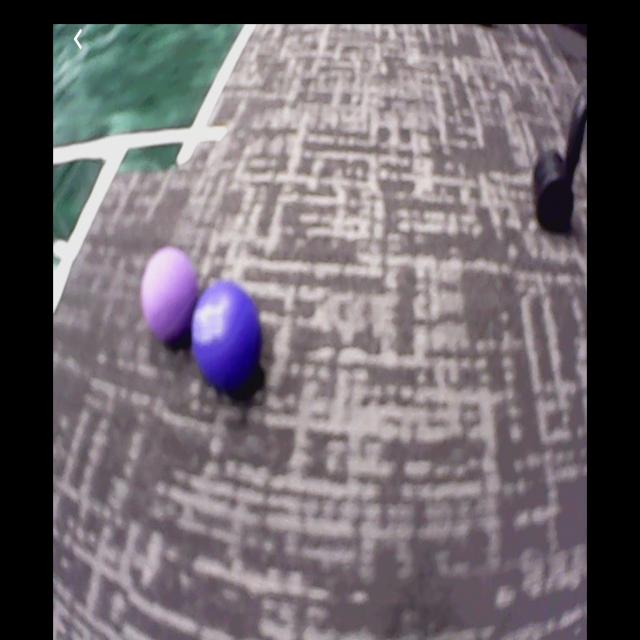ball: (192, 284, 260, 386), (139, 248, 196, 343)
